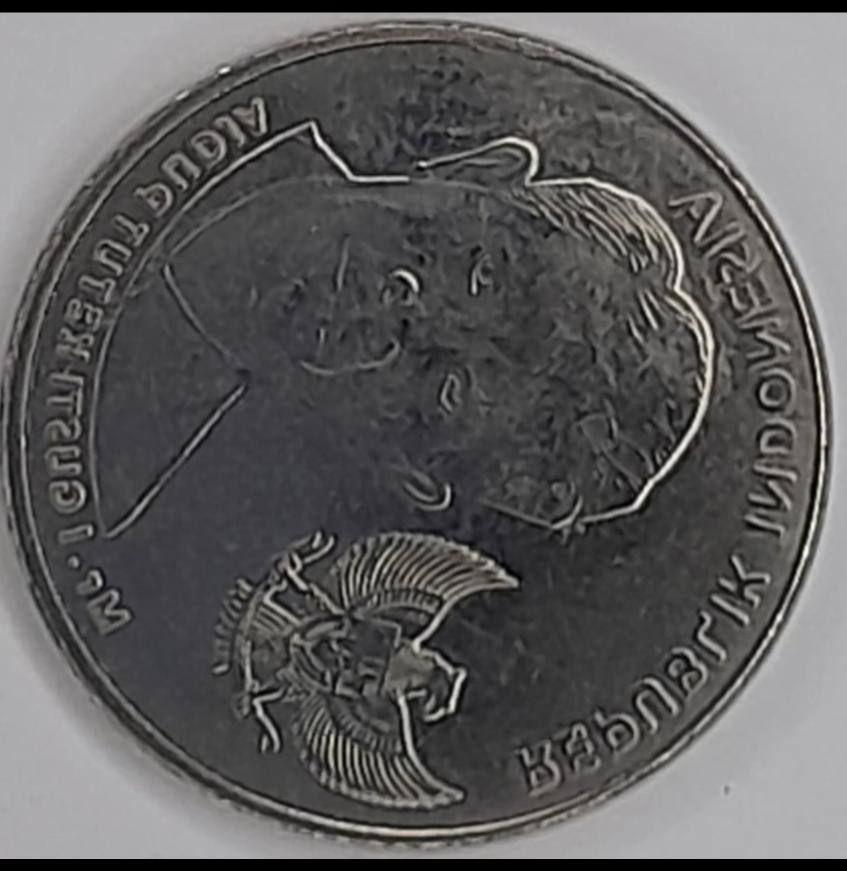coin_1000_e2016: (14, 17, 836, 871)
